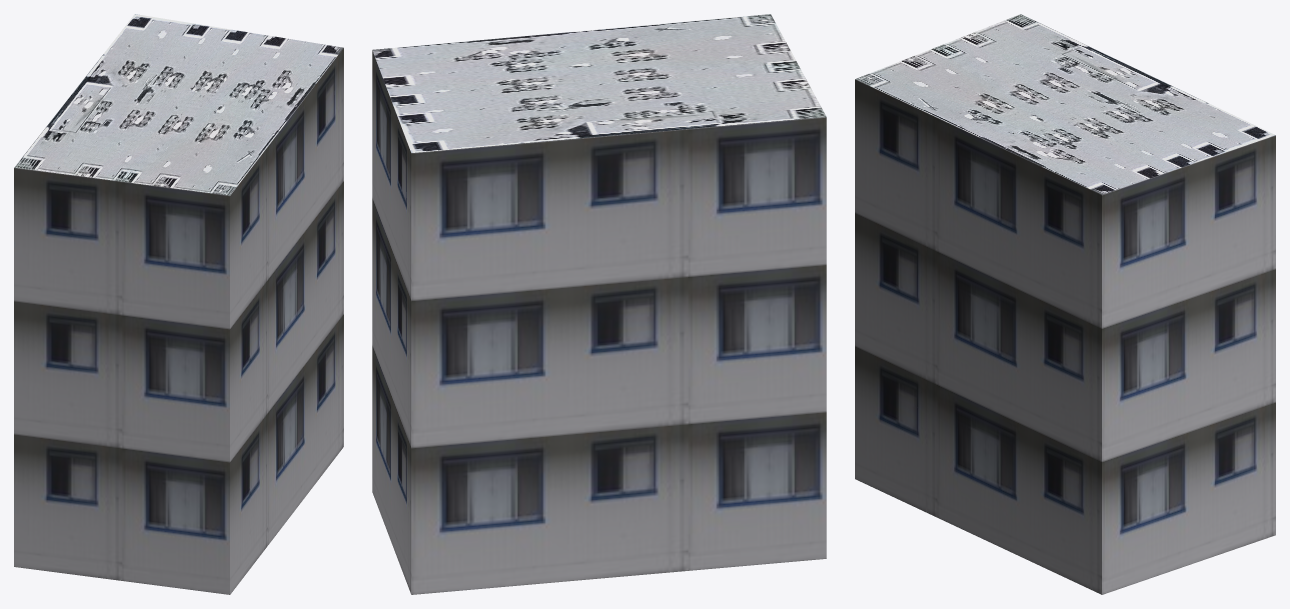
File: ResTex__3079.fbx
3 views of the same model, side by side, from view 1: azimuth 30°, elevation 25°; view 2: azimuth 150°, elevation 25°; view 3: azimuth 270°, elevation 25° (orthographic). The views are drawn at different scales.
Parts seen in each view (by area): view 1: CityEngineMaterial_9_m, CityEngineMaterial_m; view 2: CityEngineMaterial_9_m, CityEngineMaterial_m; view 3: CityEngineMaterial_9_m, CityEngineMaterial_m.
Boxes of the visible parts, <box> form: CityEngineMaterial_9_m: <box>14,48,343,594</box>; CityEngineMaterial_m: <box>14,14,343,195</box>; CityEngineMaterial_9_m: <box>372,51,826,594</box>; CityEngineMaterial_m: <box>372,14,826,152</box>; CityEngineMaterial_9_m: <box>855,79,1275,594</box>; CityEngineMaterial_m: <box>855,14,1275,194</box>.
Bounding box in the file's own units: 8.73 × 9 × 8.58.
2 materials, 2 textured.
